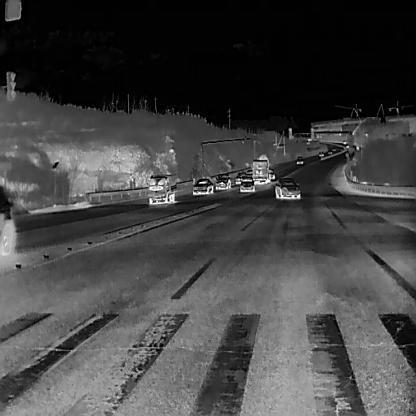car: (146, 172, 178, 204), (251, 153, 271, 184), (275, 176, 301, 199), (192, 177, 213, 195), (214, 172, 231, 190), (238, 175, 255, 192), (234, 172, 247, 185), (267, 168, 275, 180), (244, 168, 253, 177), (296, 155, 303, 164), (318, 150, 324, 157), (355, 142, 360, 150), (327, 148, 332, 153), (342, 139, 346, 144), (345, 143, 349, 148), (339, 146, 343, 151), (332, 146, 336, 151)
